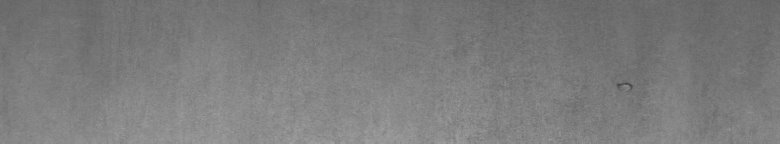fi: (616, 77, 634, 92)
